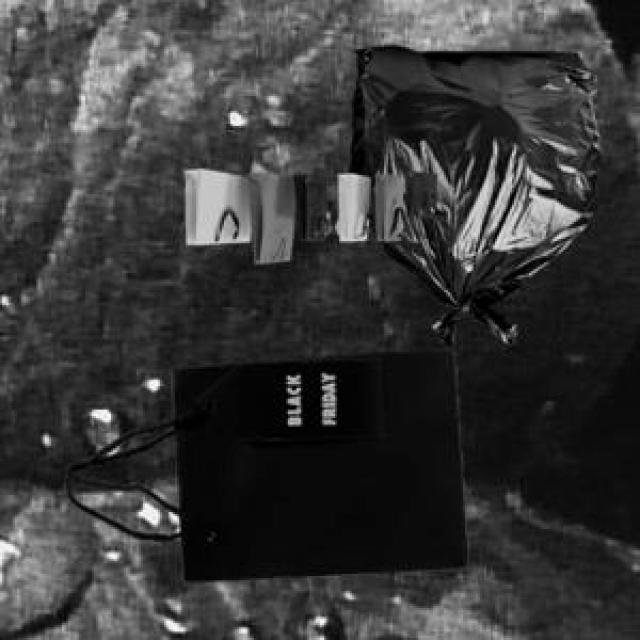miscellaneous trash: (344, 43, 597, 350)
paper: (62, 346, 463, 578), (181, 164, 433, 258)
